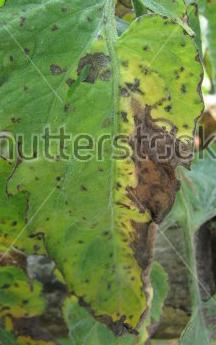Tomato leaf bacterial spot: (0, 0, 204, 345), (0, 133, 74, 345)
